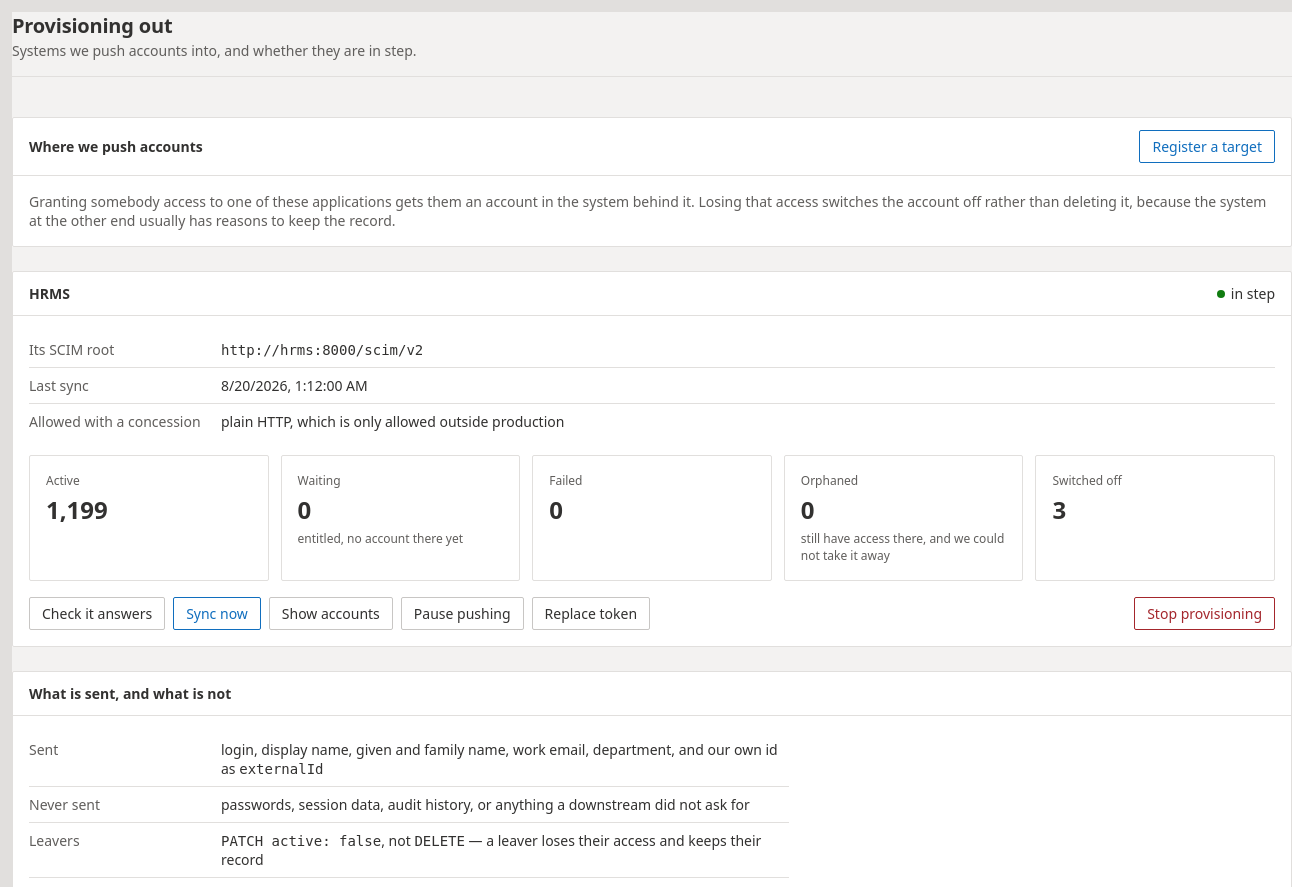
Test: the accounts list puts the worst rows first
The image size is (1292, 887).
Click the button "Show accounts" at (331, 614), box 269,597 -> 393,630
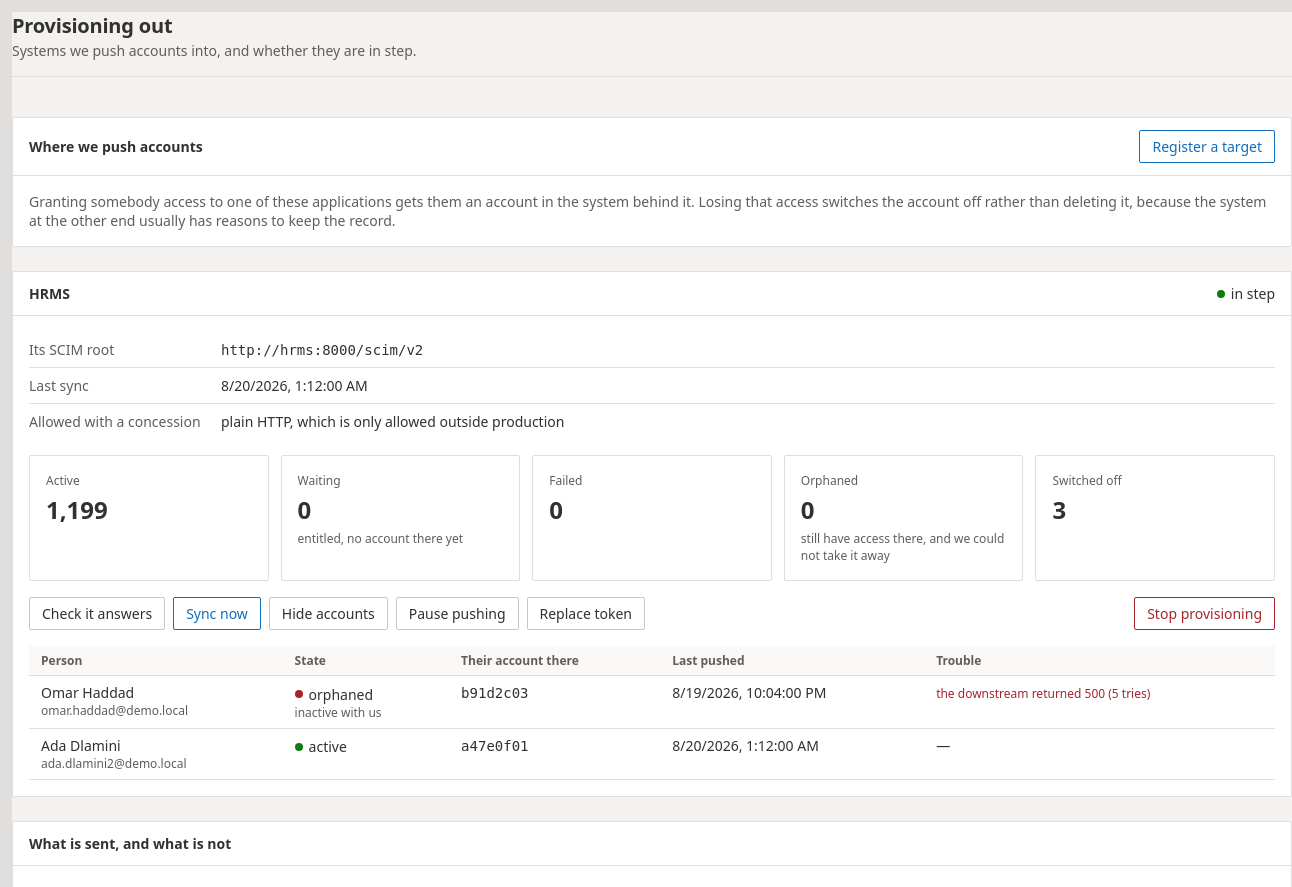
Expected: the row that starts with "Omar Haddad" is shown, 41,683 -> 134,702
Expected: the row that starts with "Ada Dlamini" is shown, 41,736 -> 121,754
